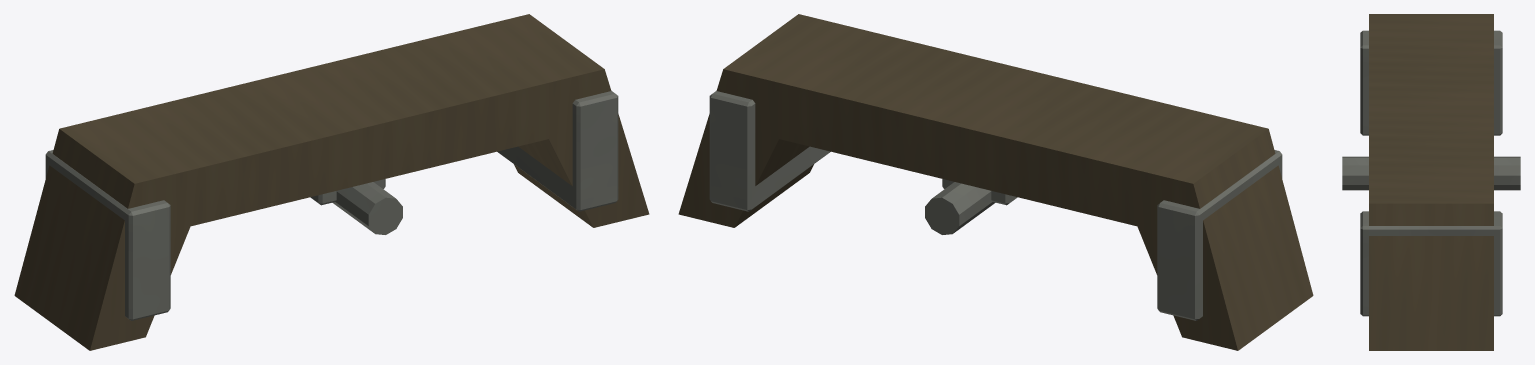
The model's file is WarrensC_WVC020_BellYoke_Mars_SM.fbx.
3 views of the same model, side by side, from view 1: azimuth 30°, elevation 25°; view 2: azimuth 150°, elevation 25°; view 3: azimuth 270°, elevation 25° (orthographic). The views are drawn at different scales.
Visible parts, largest first — view 1: WarrensC_WVC020_BellYoke_Mars_SM.001; view 2: WarrensC_WVC020_BellYoke_Mars_SM.001; view 3: WarrensC_WVC020_BellYoke_Mars_SM.001.
Boxes of the visible parts, bbox=[...] form: WarrensC_WVC020_BellYoke_Mars_SM.001: bbox=[14, 14, 649, 350]; WarrensC_WVC020_BellYoke_Mars_SM.001: bbox=[678, 14, 1313, 350]; WarrensC_WVC020_BellYoke_Mars_SM.001: bbox=[1342, 14, 1520, 350].
Size of the model in its own units: 300 by 100 by 80.
